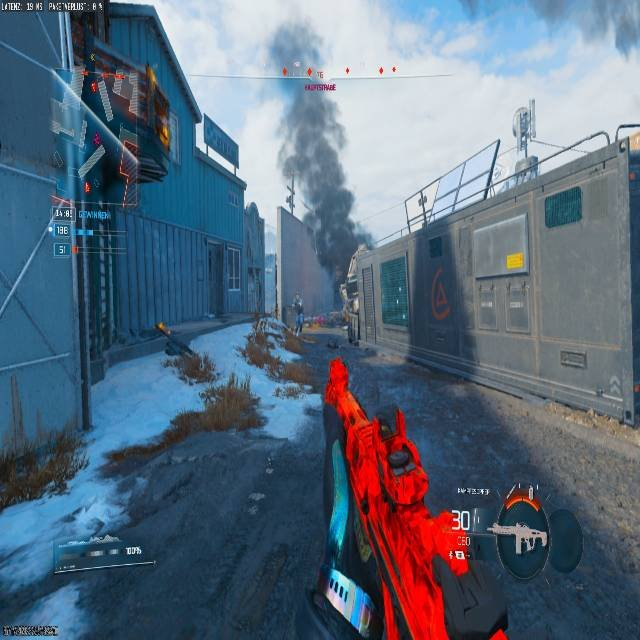player: (339, 279, 358, 323), (292, 293, 304, 335)
